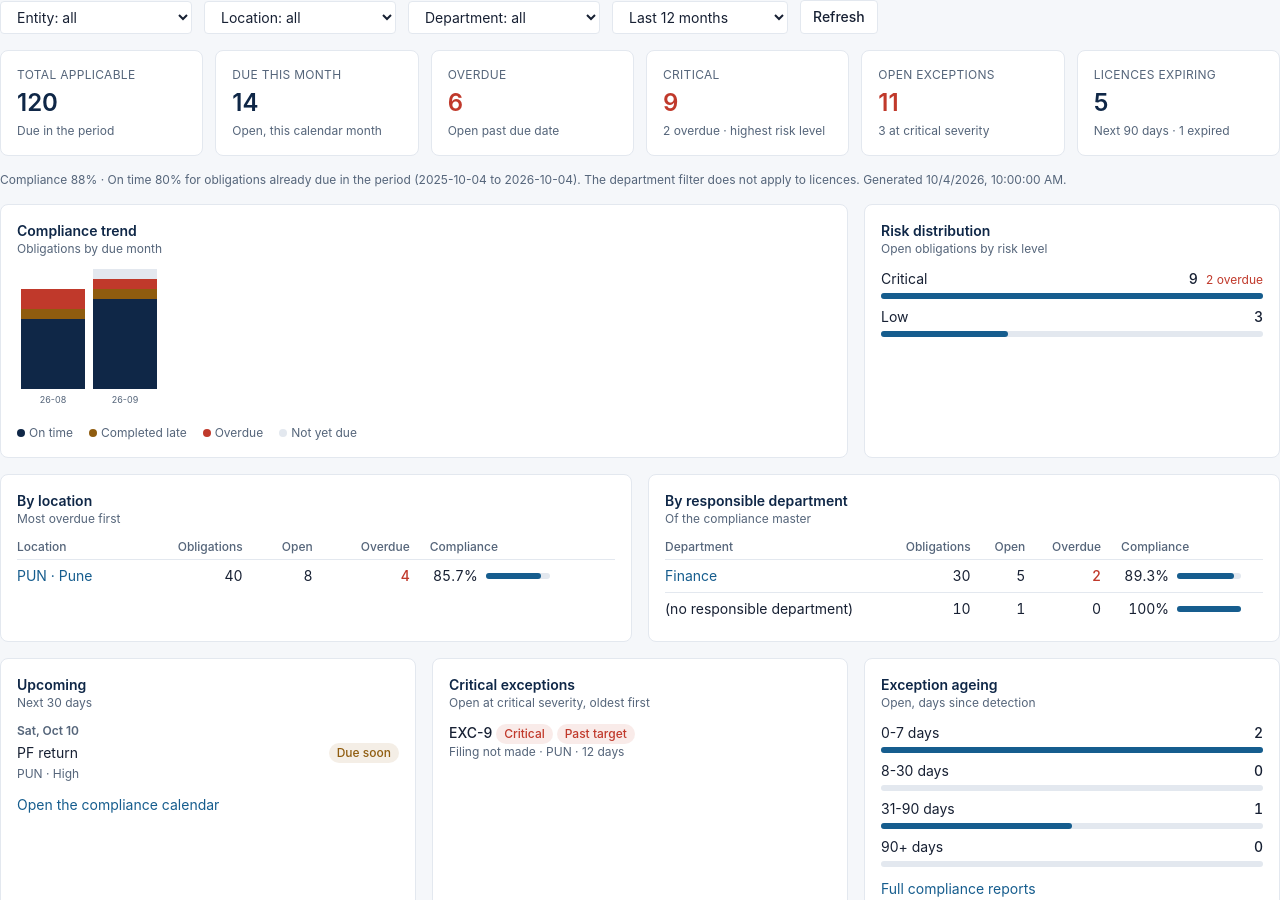
Scenario: Management dashboard › Critical drills to open obligations at the top risk level (from the list, not a hardcoded name)
Expected: the text "Total applicable" is shown, x1=17 y1=67 x2=136 y2=82
Click the button "Critical" at [748, 103], box x1=646 y1=50 x2=849 y2=156
(page scrolled)
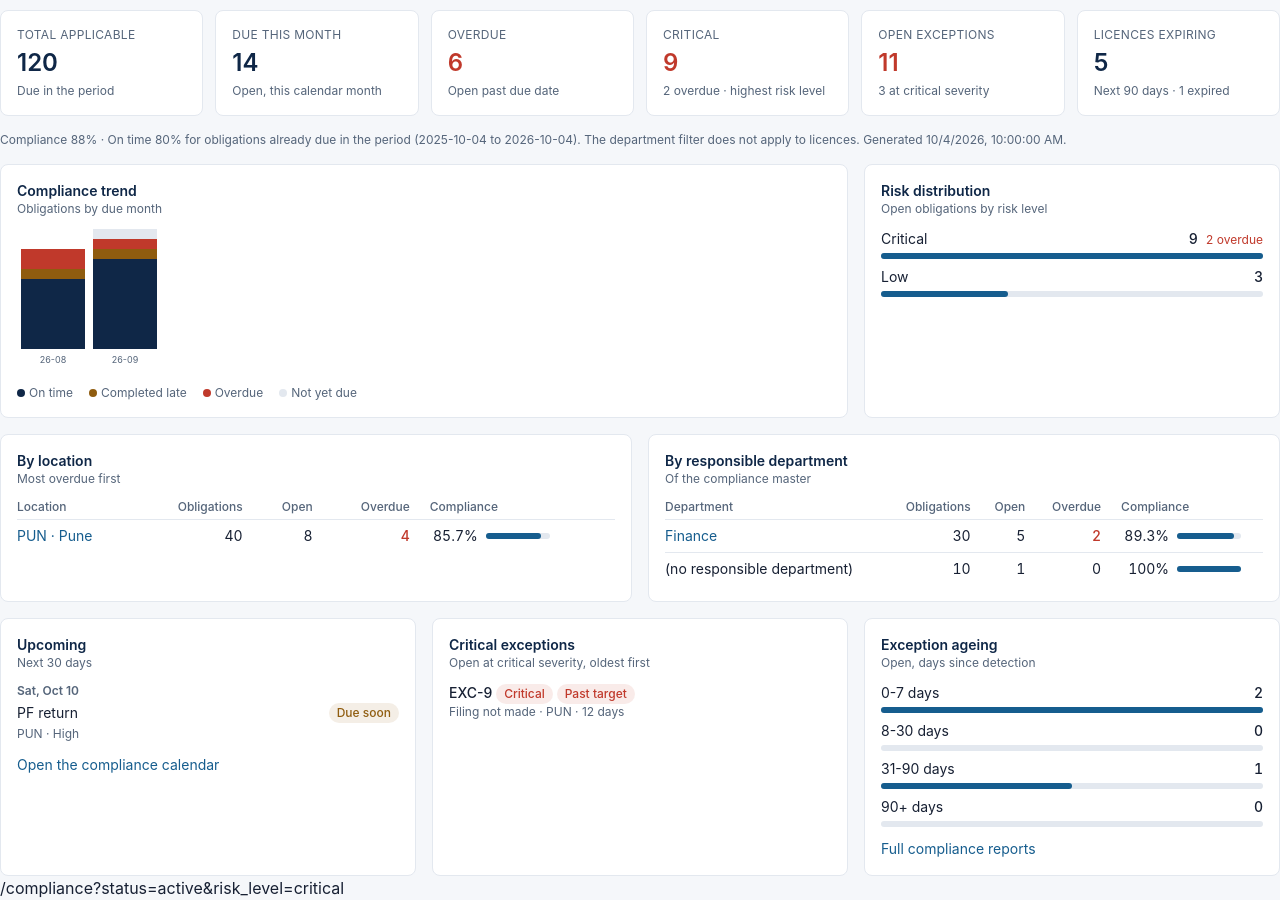
Expected: the text with test id "loc" reads "/compliance?status=active&risk_level=critical", x1=0 y1=878 x2=344 y2=898
